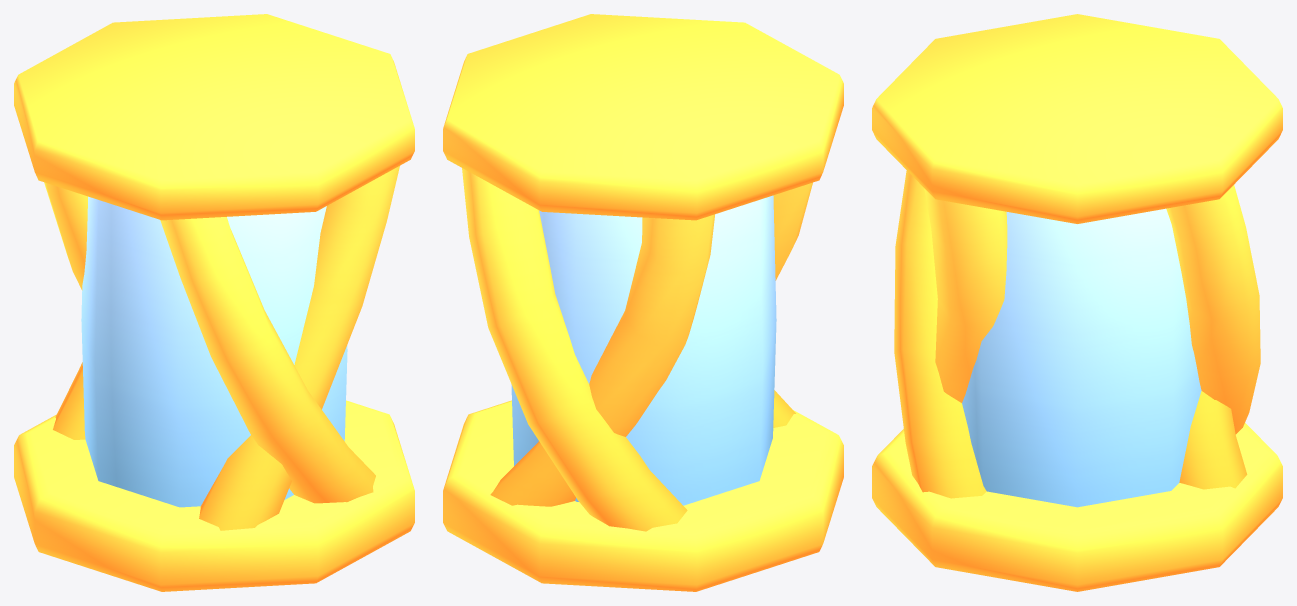
The model's file is gold_and_steel_grip_053.glb.
3 views of the same model, side by side, from view 1: azimuth 30°, elevation 25°; view 2: azimuth 150°, elevation 25°; view 3: azimuth 270°, elevation 25° (orthographic).
Visible parts, largest first — view 1: gold_and_steel_grip_053; view 2: gold_and_steel_grip_053; view 3: gold_and_steel_grip_053.
Boxes of the visible parts, left/top/right/bottom form: gold_and_steel_grip_053: left=14, top=14, right=414, bottom=591; gold_and_steel_grip_053: left=443, top=14, right=843, bottom=591; gold_and_steel_grip_053: left=872, top=14, right=1282, bottom=591.
Size of the model in its own units: 2.89 by 3.2 by 2.89.
Materials: 1 (1 with a texture image).
